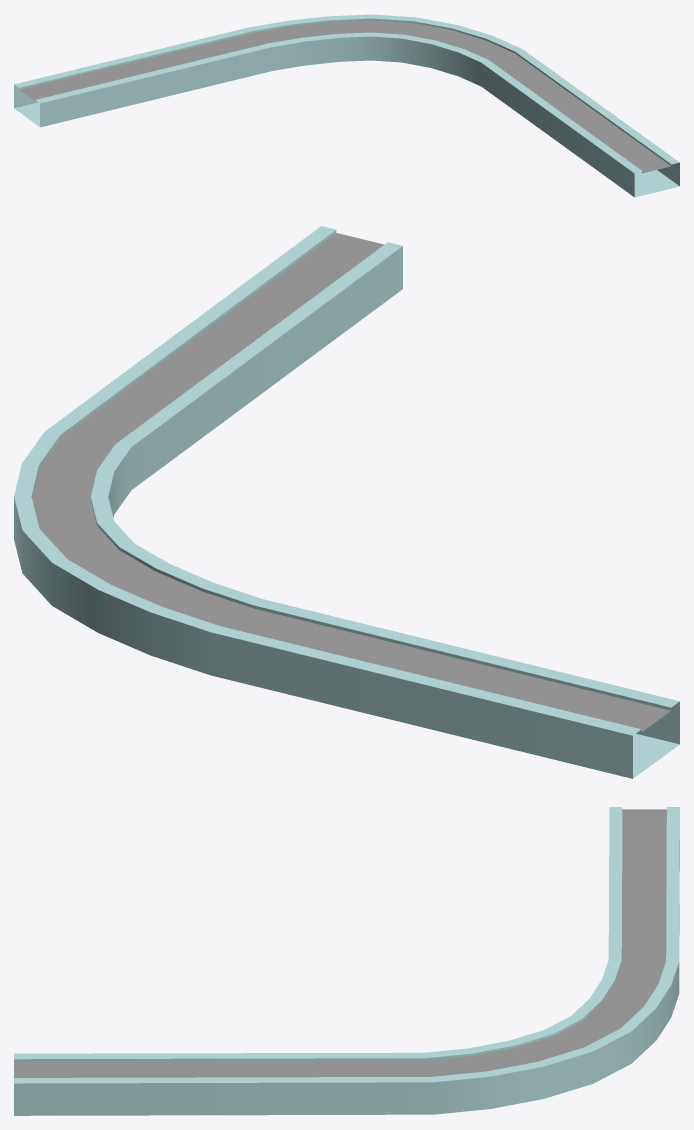
Rendered from left.fbx.
3 views of the same model, one above another, from view 1: azimuth 30°, elevation 25°; view 2: azimuth 150°, elevation 25°; view 3: azimuth 270°, elevation 25° (orthographic). The views are drawn at different scales.
Visible parts, largest first — view 1: Cube.028; view 2: Cube.028; view 3: Cube.028.
Part boxes in pixels (bbox=[...]): Cube.028: bbox=[14, 14, 679, 197]; Cube.028: bbox=[14, 226, 679, 778]; Cube.028: bbox=[14, 807, 679, 1115].
Bounding box in the file's own units: 1882 × 103 × 1916.
